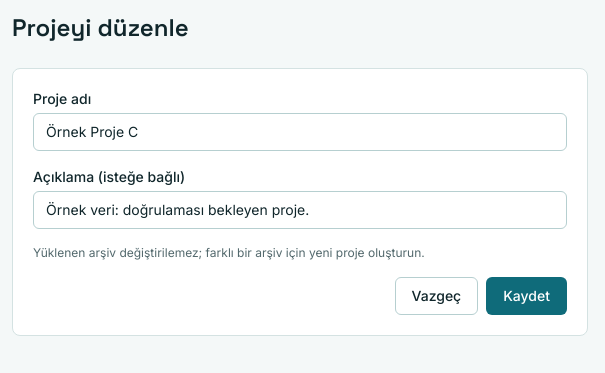
Test case: düzenleme: başka projenin adı sunucu mesajıyla reddedilir
This screenshot has width=605, height=373.
Replace the text in the field labelled "Proje adı" with "Örnek Proje A" at point(300, 132), box [33,113,567,151]
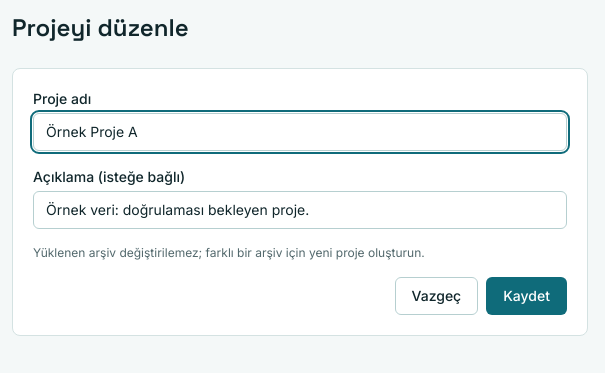
Click the button "Kaydet".
click(527, 296)  # box [486,277,567,315]
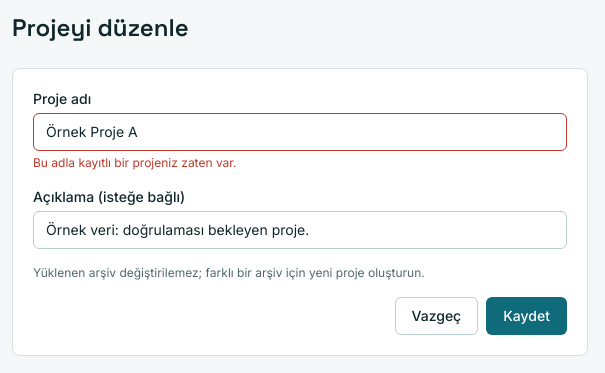
Now the text "Bu adla kayıtlı bir projeniz zaten var." is shown, box [33,155,236,170]
